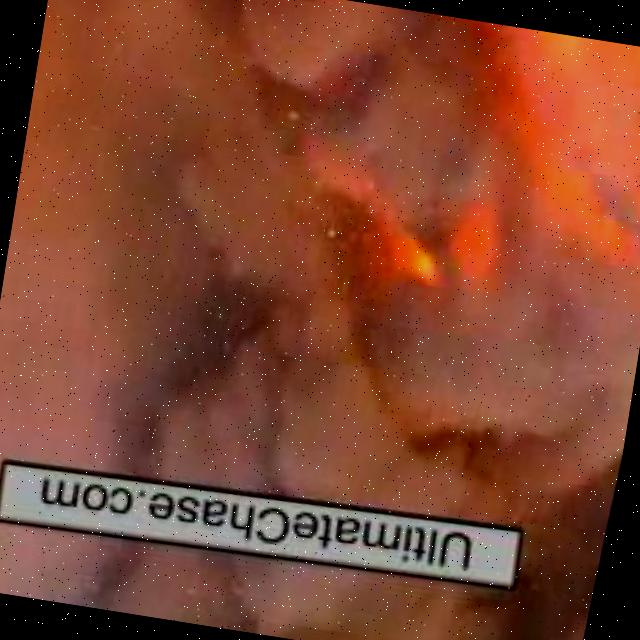fire: (356, 10, 640, 366)
